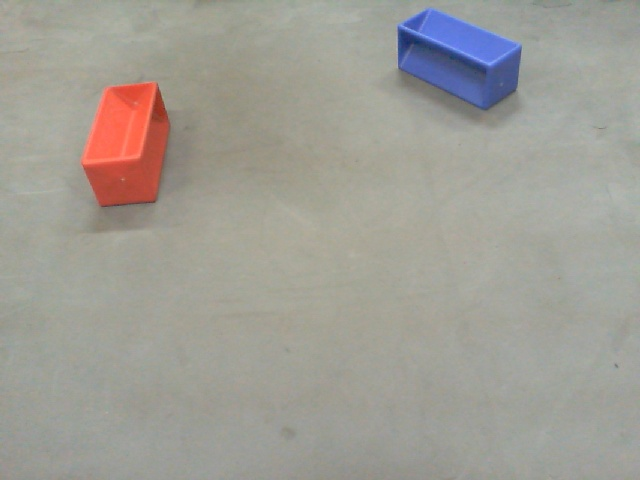BlueSample: (394, 4, 529, 114)
RedSample: (81, 78, 174, 215)
